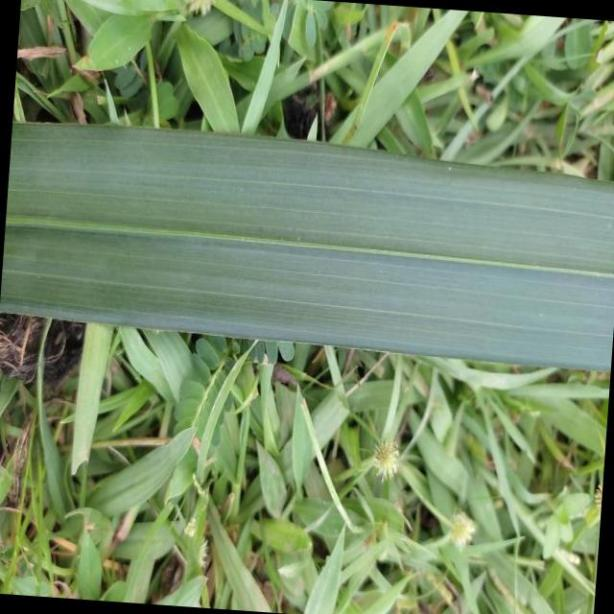Healthy: (1, 124, 614, 372)
